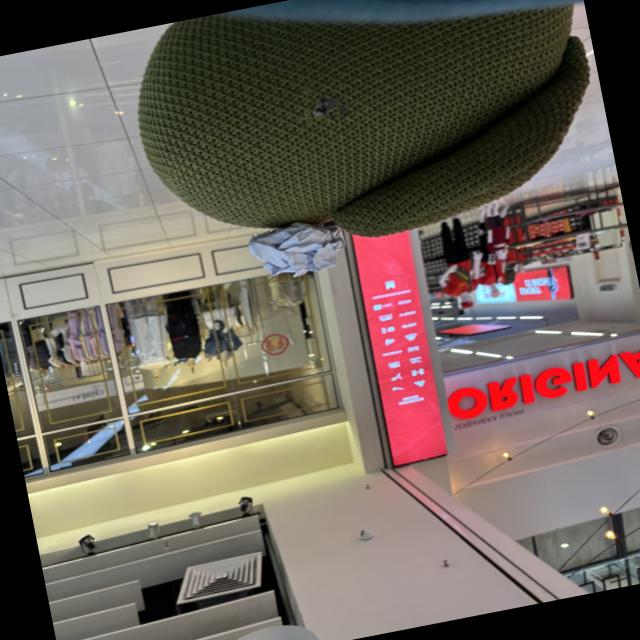crumpled_paper: (242, 210, 352, 292)
